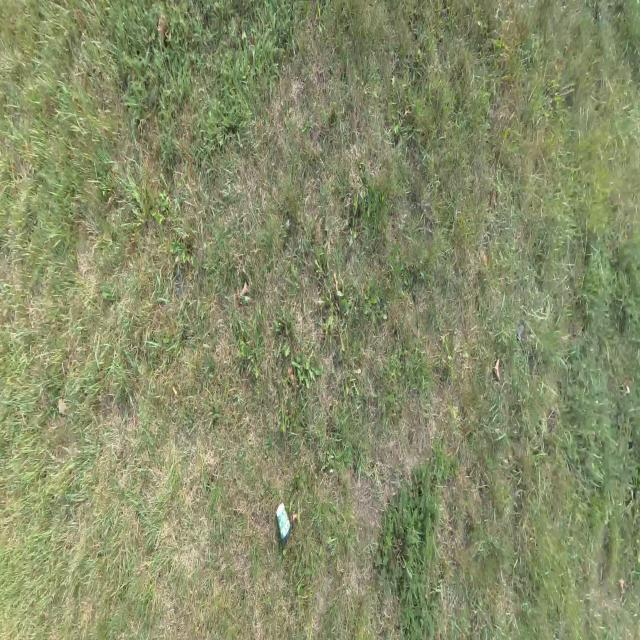rubbish: (275, 500, 291, 541)
